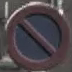No waiting: (4, 6, 65, 63)
